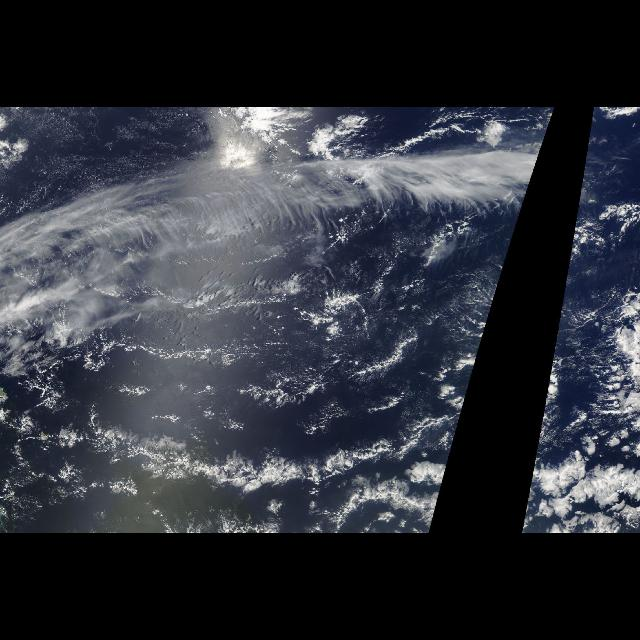Sugar: (173, 303, 453, 431), (2, 108, 216, 235)
